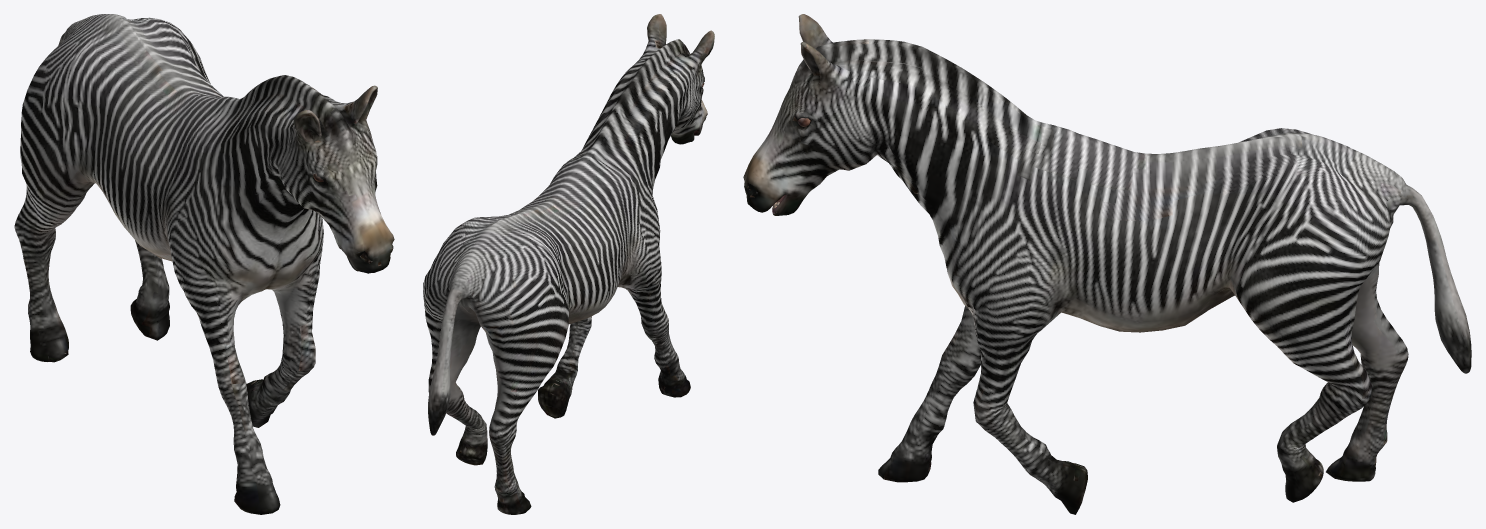
File: zebra.glb
The picture shows the model from 3 angles, left to right: view 1: azimuth 30°, elevation 25°; view 2: azimuth 150°, elevation 25°; view 3: azimuth 270°, elevation 25°; orthographic projection. The views are drawn at different scales.
Parts seen in each view (by area): view 1: zebra_body; view 2: zebra_body; view 3: zebra_body.
Boxes of the visible parts, left/top/right/bottom form: zebra_body: left=14, top=14, right=394, bottom=514; zebra_body: left=423, top=14, right=714, bottom=514; zebra_body: left=743, top=14, right=1471, bottom=514.
Bounding box in the file's own units: 0.0765 × 0.1932 × 0.27.
Materials: 1 (1 with a texture image).
